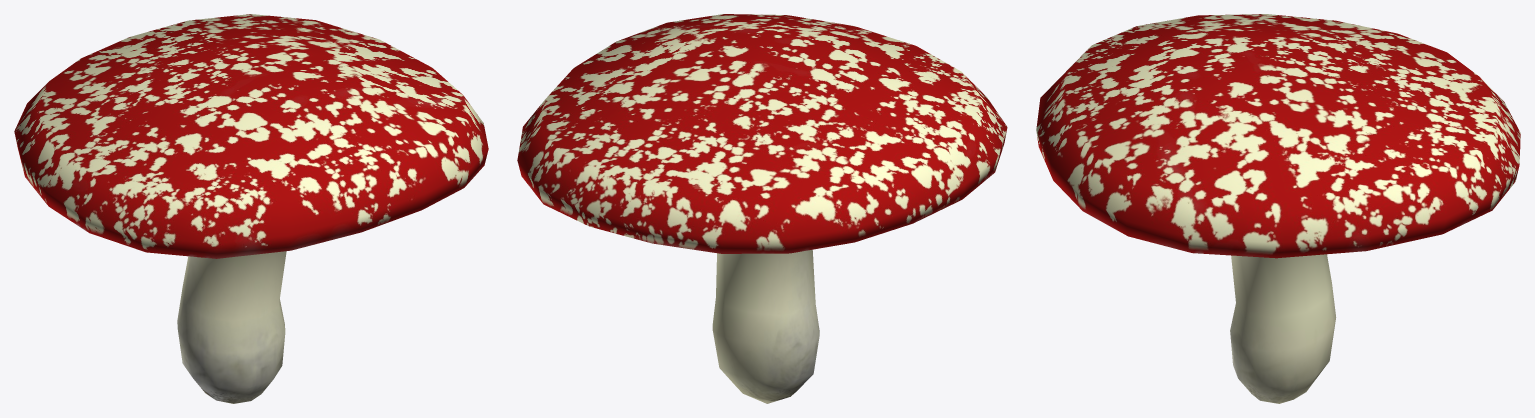
File: Mushroom.fbx
3 renders of one model, left to right at view 1: azimuth 30°, elevation 25°; view 2: azimuth 150°, elevation 25°; view 3: azimuth 270°, elevation 25°, orthographic. The views are drawn at different scales.
Visible parts, largest first — view 1: Mushroom; view 2: Mushroom; view 3: Mushroom.
Part boxes in pixels (left/top/right/bottom): Mushroom: left=14, top=14, right=488, bottom=403; Mushroom: left=517, top=14, right=1007, bottom=403; Mushroom: left=1036, top=14, right=1520, bottom=403.
Size of the model in its own units: 0.1142 by 0.0888 by 0.1129.
Materials: 1 (1 with a texture image).
